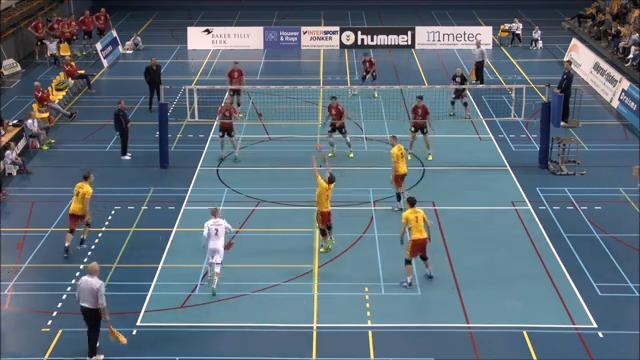Player: (400, 196, 432, 287), (202, 208, 232, 295), (64, 172, 93, 257), (327, 96, 353, 157), (408, 95, 432, 159), (217, 97, 239, 162), (389, 135, 407, 210), (449, 67, 470, 118), (227, 61, 244, 116), (360, 53, 376, 86)
Set: (303, 141, 340, 254)
ball: (312, 142, 324, 153)
